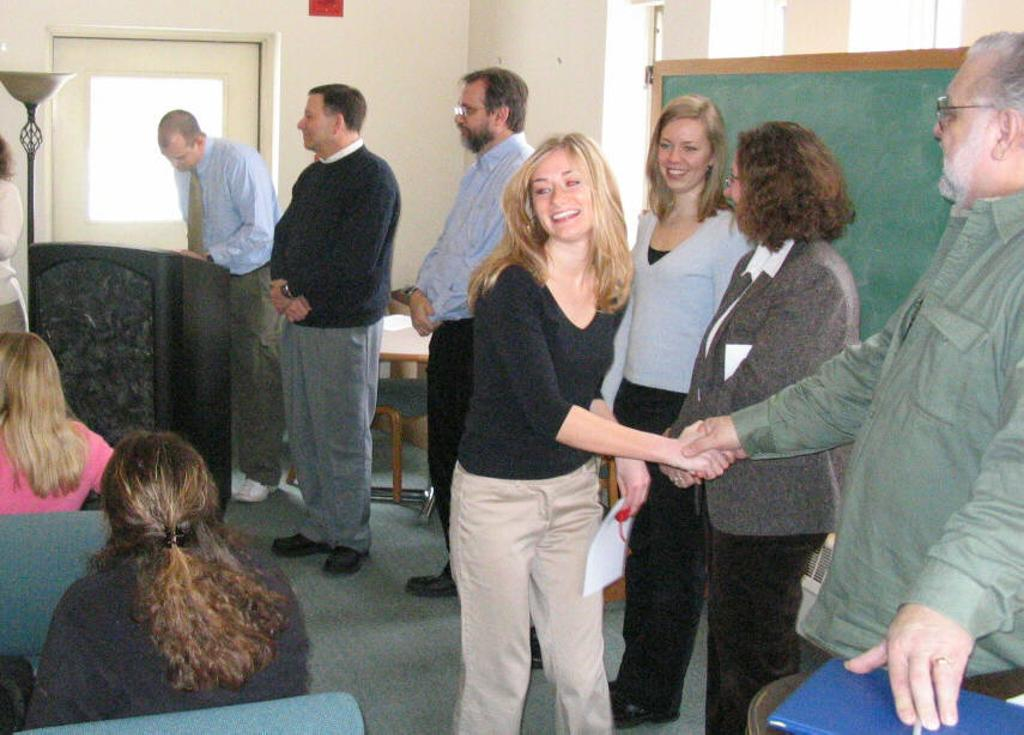face: (933, 52, 1003, 197), (530, 153, 591, 240), (658, 120, 706, 189), (723, 148, 764, 218), (454, 80, 492, 143), (296, 96, 330, 149), (161, 145, 198, 172)
